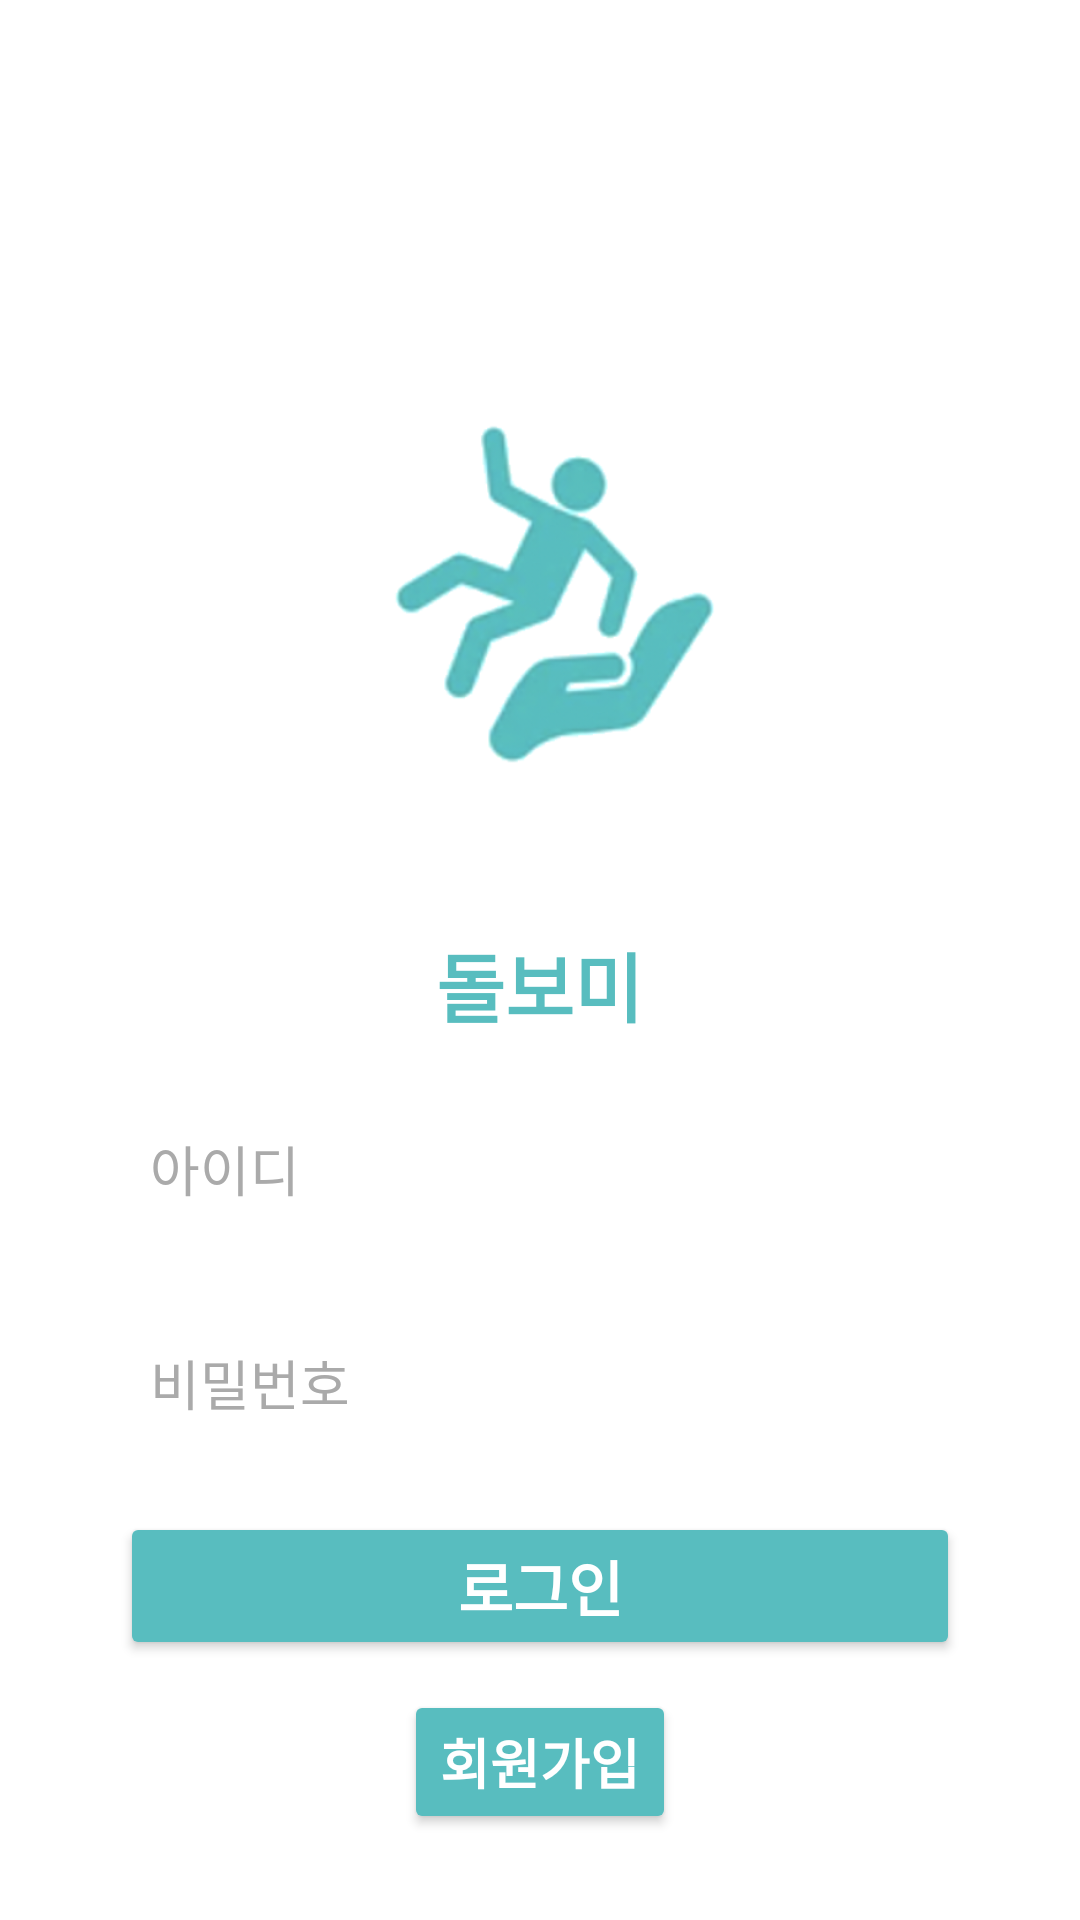

Screen size 1080px x 1920px. Icon name, then its box in pixels as Rect(x1, y1, x2, y2):
dolbomi: Rect(396, 426, 714, 762)
